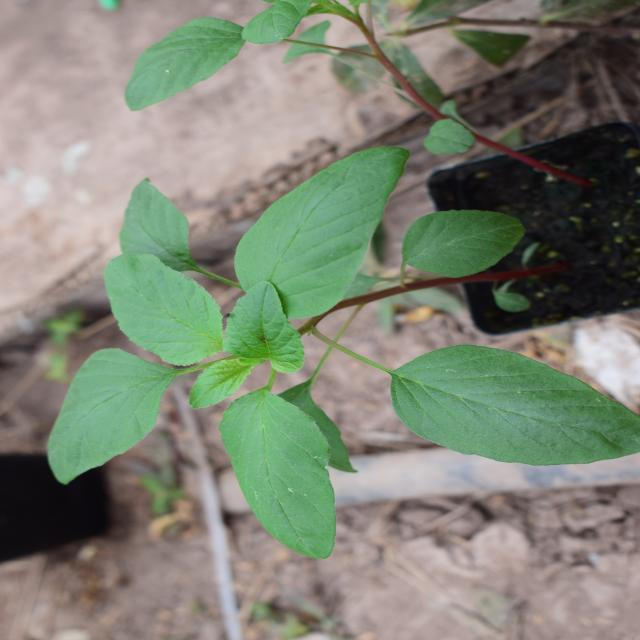pigweed: (103, 50, 476, 554)
